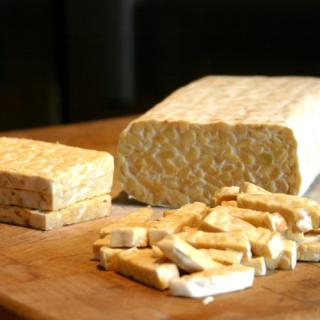Tempe: (1, 72, 320, 302), (1, 135, 116, 231), (169, 264, 256, 299)
